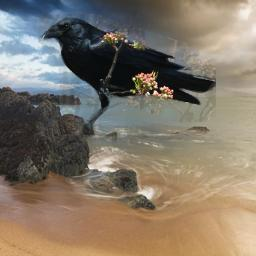Crow: (35, 14, 216, 135)
